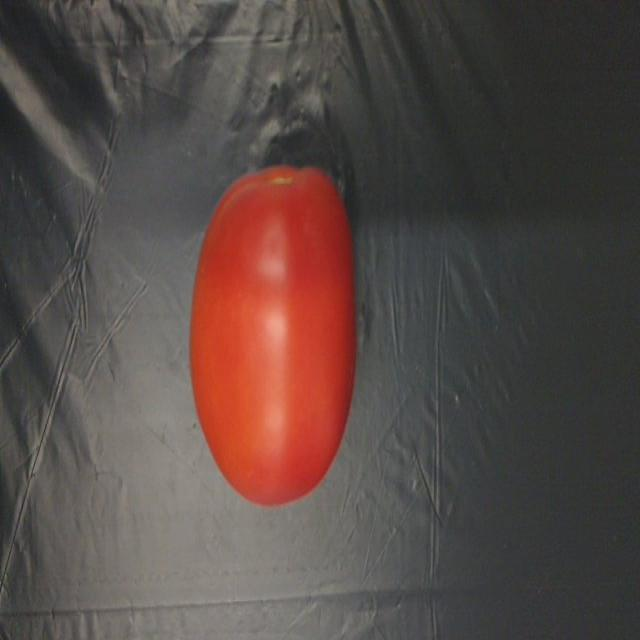kirmizi: (197, 158, 380, 528)
